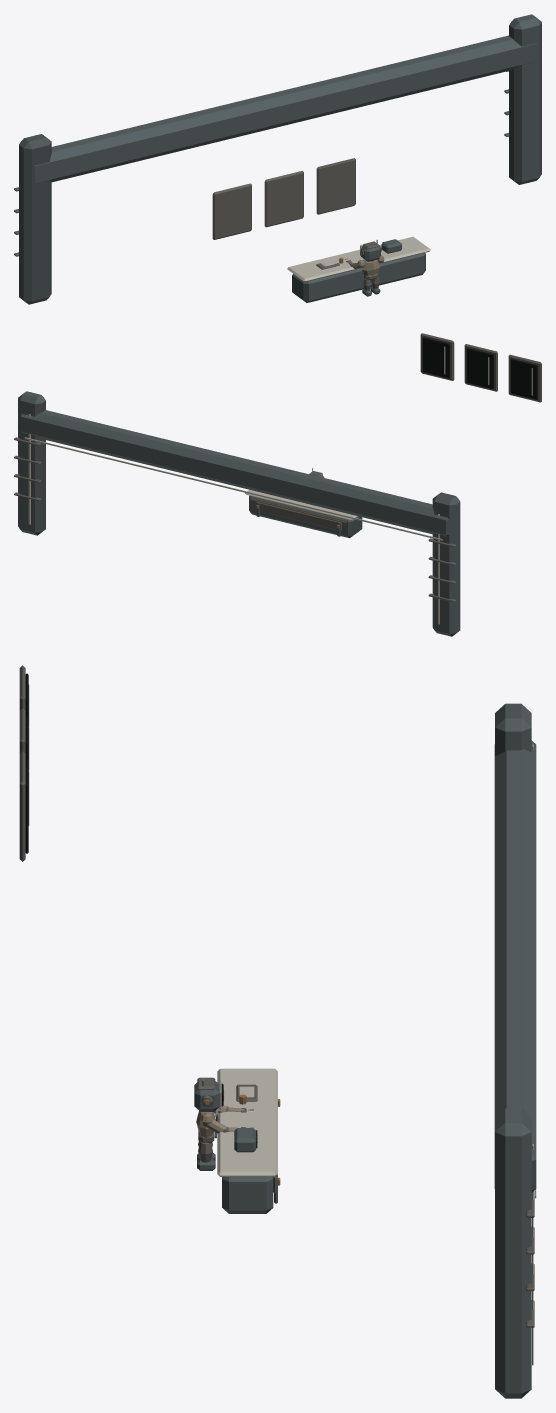
Rendered from dockmaster18.glb.
3 views of the same model, one above another, from view 1: azimuth 30°, elevation 25°; view 2: azimuth 150°, elevation 25°; view 3: azimuth 270°, elevation 25° (orthographic). The views are drawn at different scales.
Visible parts, largest first — view 1: dockmaster18_facade_dock18_shell, dockmaster18_facade_dock18_cloth, dockmaster18_desk_dock18_shell, dockmaster18_desk_dock18_ivory, dockmaster18_actor_dock18_workwear, dockmaster18_actor_dock18_cloth, dockmaster18_actor_dock18_shell; view 2: dockmaster18_facade_dock18_shell, dockmaster18_facade_dock18_screen, dockmaster18_facade_dock18_cloth, dockmaster18_facade_dock18_ivory, dockmaster18_desk_dock18_shell, dockmaster18_desk_dock18_cloth, dockmaster18_desk_dock18_ivory; view 3: dockmaster18_facade_dock18_shell, dockmaster18_desk_dock18_ivory, dockmaster18_desk_dock18_shell, dockmaster18_facade_dock18_cloth.
Part boxes in pixels (x1=…): dockmaster18_facade_dock18_shell: x1=19, y1=14, x2=541, y2=304; dockmaster18_facade_dock18_cloth: x1=14, y1=71, x2=508, y2=256; dockmaster18_desk_dock18_shell: x1=292, y1=239, x2=425, y2=302; dockmaster18_desk_dock18_ivory: x1=287, y1=236, x2=430, y2=281; dockmaster18_actor_dock18_workwear: x1=347, y1=255, x2=384, y2=275; dockmaster18_actor_dock18_cloth: x1=346, y1=241, x2=381, y2=290; dockmaster18_actor_dock18_shell: x1=345, y1=241, x2=380, y2=296; dockmaster18_facade_dock18_shell: x1=18, y1=391, x2=460, y2=636; dockmaster18_facade_dock18_screen: x1=422, y1=337, x2=537, y2=399; dockmaster18_facade_dock18_cloth: x1=14, y1=333, x2=541, y2=602; dockmaster18_facade_dock18_ivory: x1=24, y1=346, x2=532, y2=624; dockmaster18_desk_dock18_shell: x1=249, y1=495, x2=362, y2=538; dockmaster18_desk_dock18_cloth: x1=256, y1=501, x2=341, y2=530; dockmaster18_desk_dock18_ivory: x1=245, y1=489, x2=356, y2=520; dockmaster18_facade_dock18_shell: x1=494, y1=703, x2=536, y2=1398; dockmaster18_desk_dock18_ivory: x1=217, y1=1068, x2=277, y2=1176; dockmaster18_desk_dock18_shell: x1=222, y1=1128, x2=277, y2=1213; dockmaster18_facade_dock18_cloth: x1=19, y1=665, x2=534, y2=1327.
Bounding box in the file's own units: 25.08 × 9.5 × 12.74.
